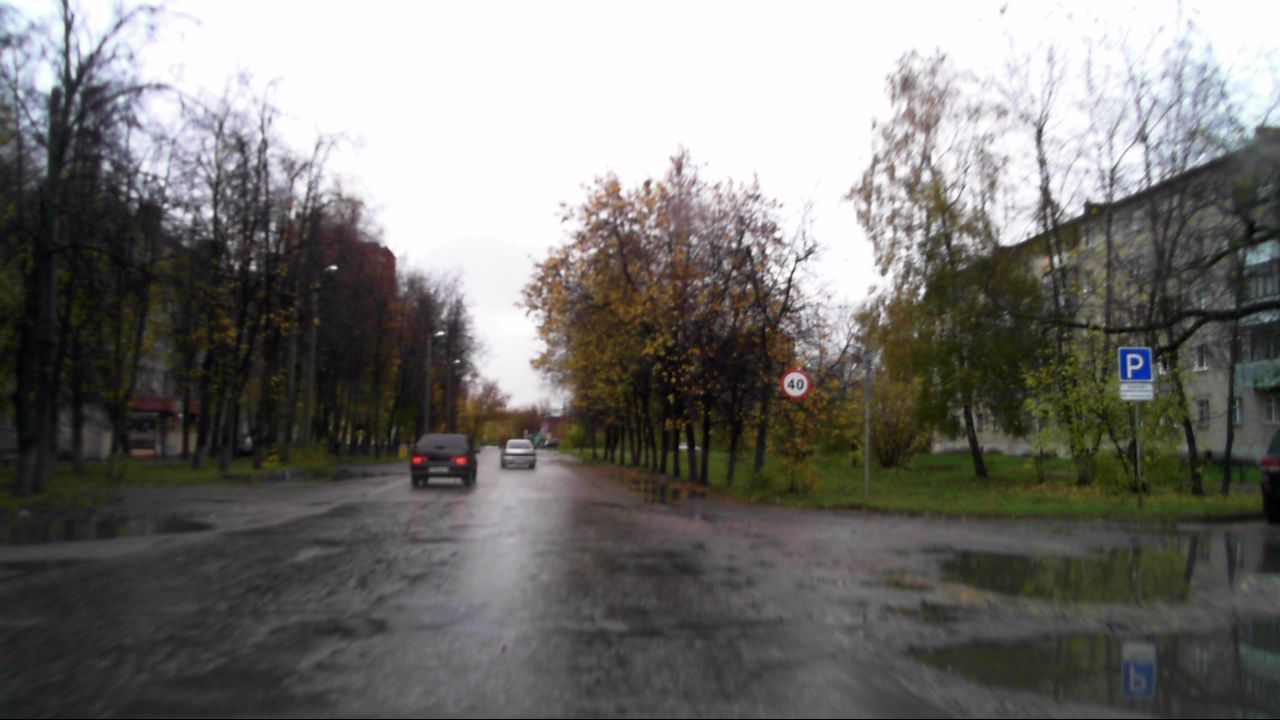speed_warning_40: (780, 370, 807, 399)
